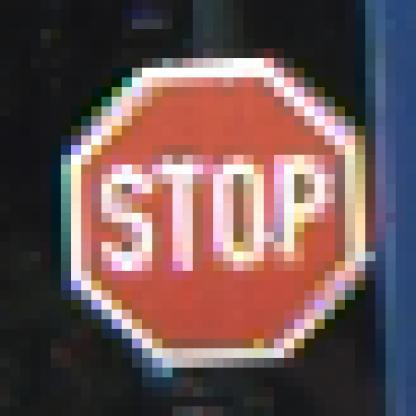Stop: (70, 64, 361, 364)
